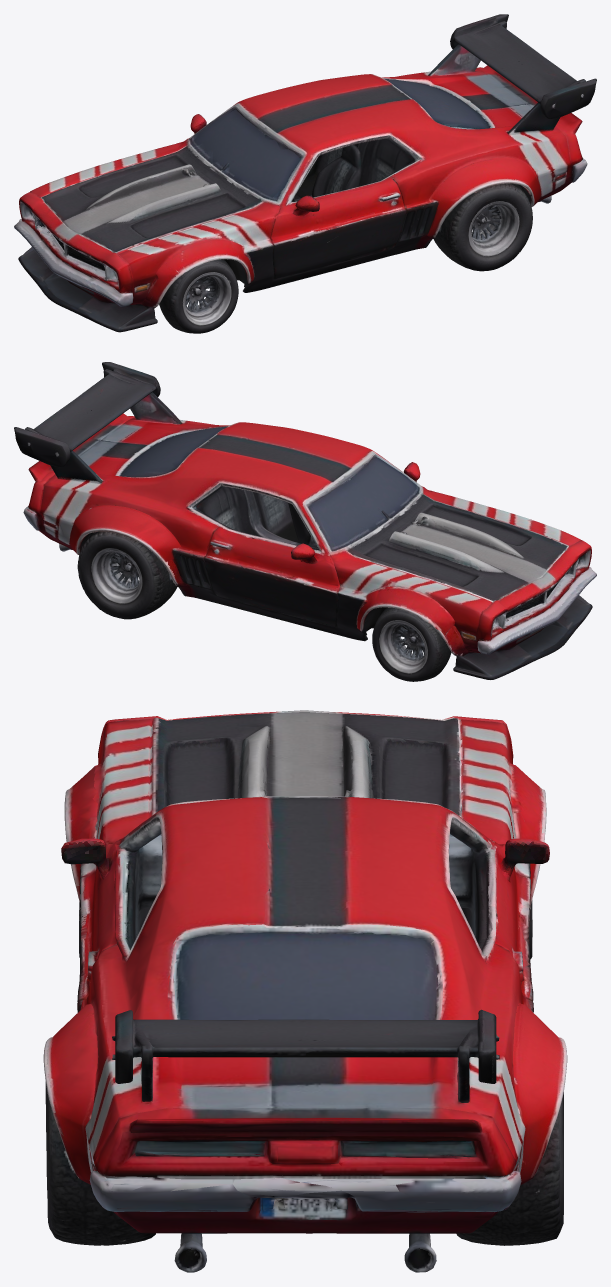
The model's file is sports-car.glb.
3 views of the same model, one above another, from view 1: azimuth 30°, elevation 25°; view 2: azimuth 150°, elevation 25°; view 3: azimuth 270°, elevation 25° (orthographic). The views are drawn at different scales.
Visible parts, largest first — view 1: tripo_part_0, tripo_part_10, tripo_part_4, tripo_part_15, tripo_part_28, tripo_part_7, tripo_part_5, tripo_part_11, tripo_part_2, tripo_part_13, tripo_part_16; view 2: tripo_part_0, tripo_part_12, tripo_part_4, tripo_part_1, tripo_part_28, tripo_part_3, tripo_part_2, tripo_part_5, tripo_part_18, tripo_part_21, tripo_part_27, tripo_part_16 (+1 smaller); view 3: tripo_part_0, tripo_part_4, tripo_part_2, tripo_part_24, tripo_part_26, tripo_part_18, tripo_part_11, tripo_part_15, tripo_part_1, tripo_part_10, tripo_part_12, tripo_part_21 (+5 smaller).
Boxes of the visible parts, x1=… form: tripo_part_0: x1=14, y1=65, x2=582, y2=306; tripo_part_10: x1=270, y1=178, x2=406, y2=279; tripo_part_4: x1=428, y1=14, x2=596, y2=135; tripo_part_15: x1=433, y1=183, x2=532, y2=271; tripo_part_28: x1=193, y1=109, x2=300, y2=198; tripo_part_7: x1=159, y1=259, x2=238, y2=333; tripo_part_5: x1=18, y1=247, x2=157, y2=332; tripo_part_11: x1=419, y1=157, x2=540, y2=247; tripo_part_2: x1=286, y1=139, x2=426, y2=206; tripo_part_13: x1=143, y1=239, x2=254, y2=307; tripo_part_16: x1=312, y1=144, x2=361, y2=197; tripo_part_0: x1=28, y1=413, x2=596, y2=654; tripo_part_12: x1=204, y1=526, x2=340, y2=627; tripo_part_4: x1=14, y1=362, x2=183, y2=483; tripo_part_1: x1=77, y1=531, x2=177, y2=619; tripo_part_28: x1=311, y1=457, x2=418, y2=546; tripo_part_3: x1=372, y1=607, x2=451, y2=681; tripo_part_2: x1=184, y1=487, x2=329, y2=555; tripo_part_5: x1=453, y1=595, x2=592, y2=679; tripo_part_18: x1=65, y1=505, x2=180, y2=561; tripo_part_21: x1=356, y1=586, x2=454, y2=635; tripo_part_27: x1=433, y1=625, x2=478, y2=656; tripo_part_16: x1=288, y1=503, x2=317, y2=547; tripo_part_0: x1=76, y1=710, x2=533, y2=1233; tripo_part_4: x1=112, y1=1009, x2=499, y2=1102; tripo_part_2: x1=114, y1=836, x2=496, y2=964; tripo_part_24: x1=89, y1=1171, x2=339, y2=1215; tripo_part_26: x1=275, y1=1170, x2=521, y2=1218; tripo_part_18: x1=513, y1=1002, x2=567, y2=1184; tripo_part_11: x1=43, y1=1004, x2=98, y2=1184; tripo_part_15: x1=45, y1=1082, x2=155, y2=1245; tripo_part_1: x1=456, y1=1066, x2=563, y2=1245; tripo_part_10: x1=77, y1=844, x2=117, y2=1002; tripo_part_12: x1=494, y1=844, x2=533, y2=1001; tripo_part_21: x1=509, y1=763, x2=546, y2=904.
Size of the model in its own units: 1 by 0.2881 by 0.4517.
34 materials, 34 textured.
